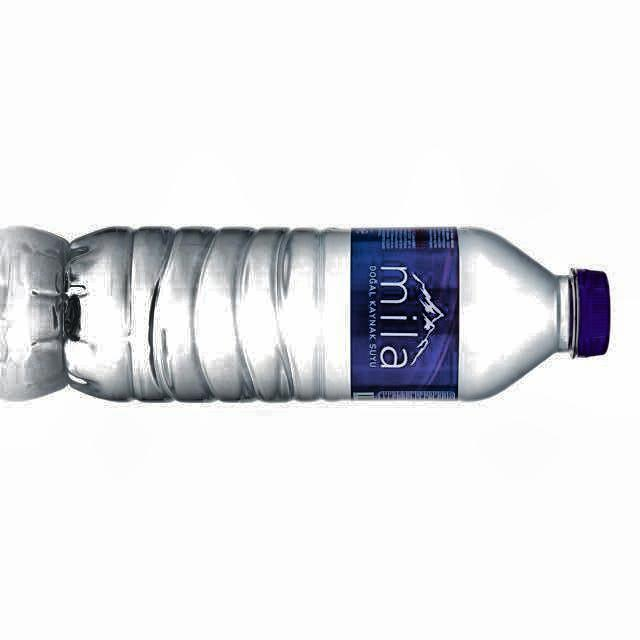plastic: (64, 228, 609, 400)
